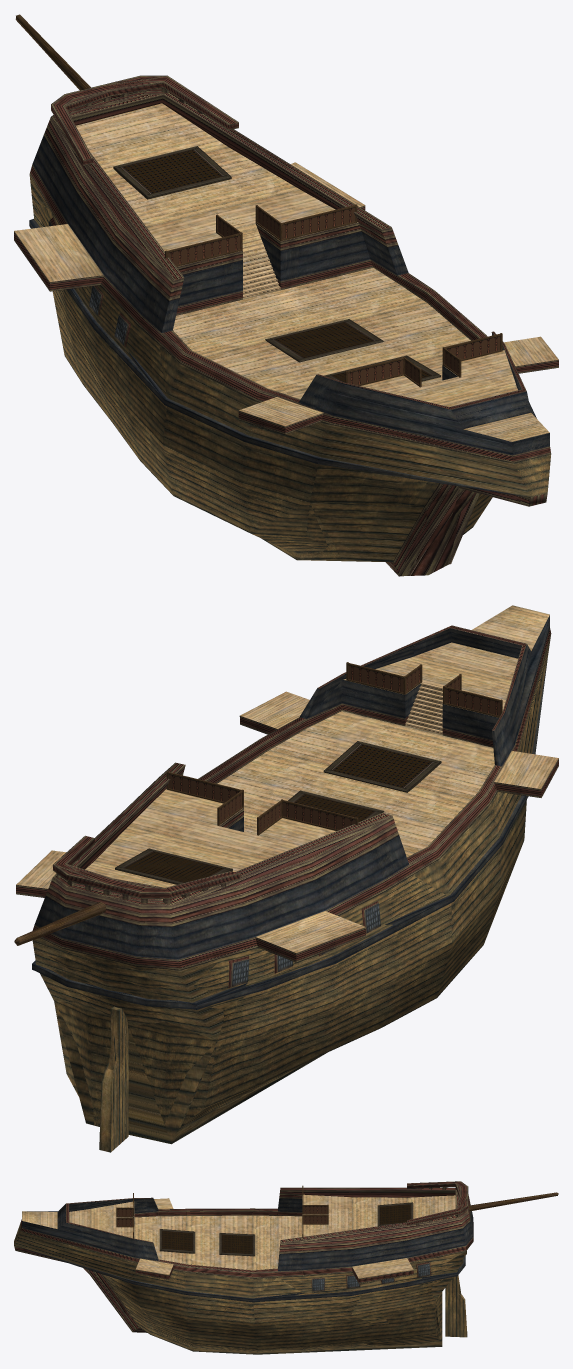
The model's file is pir_m_shp_gal_carrack.fbx.
3 renders of one model, top to bottom at view 1: azimuth 30°, elevation 25°; view 2: azimuth 150°, elevation 25°; view 3: azimuth 270°, elevation 25°, orthographic. The views are drawn at different scales.
Parts seen in each view (by area): view 1: deck1, hull_mid1.002, stripe.001, hull_bottom.001, stripe_lower.002, hull_upper_fore.002, hull_mid1, hull_bottom.002, hull_upper_aft, stripe1, hull_bottom, hull_upper_aft.002 (+26 smaller); view 2: deck1, hull_bottom, hull_mid1, hull_mid1.002, hull_upper_aft, stripe1, hull_upper_fore.002, hull_bottom.002, stripe_lower.002, stripe.001, grate_0, stripe_lower (+21 smaller); view 3: deck1, hull_mid1.002, hull_bottom, hull_bottom.001, hull_upper_aft, hull_mid1.001, hull_mid1, stripe1, stripe_lower.002, stripe.001, hull_upper_fore.002, hull_bottom.002 (+20 smaller).
Part boxes in pixels (left/top/right/bottom): deck1: left=76, top=103, right=549, bottom=441; hull_mid1.002: left=29, top=175, right=550, bottom=501; stripe.001: left=51, top=91, right=398, bottom=301; hull_bottom.001: left=163, top=444, right=422, bottom=551; stripe_lower.002: left=159, top=259, right=550, bottom=462; hull_upper_fore.002: left=298, top=332, right=549, bottom=455; hull_mid1: left=35, top=187, right=325, bottom=443; hull_bottom.002: left=261, top=494, right=492, bottom=562; hull_upper_aft: left=32, top=136, right=168, bottom=332; stripe1: left=43, top=88, right=378, bottom=300; hull_bottom: left=52, top=291, right=173, bottom=495; hull_upper_aft.002: left=162, top=231, right=408, bottom=332; deck1: left=85, top=605, right=549, bottom=899; hull_bottom: left=54, top=943, right=451, bottom=1140; hull_mid1: left=40, top=792, right=508, bottom=1040; hull_mid1.002: left=32, top=635, right=550, bottom=1040; hull_upper_aft: left=34, top=835, right=408, bottom=959; stripe1: left=45, top=766, right=398, bottom=926; hull_upper_fore.002: left=299, top=615, right=549, bottom=766; hull_bottom.002: left=54, top=1002, right=326, bottom=1144; stripe_lower.002: left=198, top=628, right=551, bottom=874; stripe.001: left=53, top=762, right=391, bottom=905; grate_0: left=323, top=741, right=441, bottom=792; stripe_lower: left=32, top=865, right=412, bottom=969; deck1: left=22, top=1194, right=455, bottom=1270; hull_mid1.002: left=14, top=1222, right=465, bottom=1323; hull_bottom: left=255, top=1292, right=442, bottom=1351; hull_bottom.001: left=115, top=1289, right=438, bottom=1351; hull_upper_aft: left=278, top=1204, right=473, bottom=1271; hull_mid1.001: left=14, top=1225, right=465, bottom=1323; hull_mid1: left=165, top=1250, right=466, bottom=1323; stripe1: left=279, top=1190, right=470, bottom=1254; stripe_lower.002: left=21, top=1208, right=302, bottom=1278; stripe.001: left=279, top=1187, right=460, bottom=1253; hull_upper_fore.002: left=23, top=1197, right=158, bottom=1260; hull_bottom.002: left=113, top=1288, right=442, bottom=1354.
Bounding box in the file's own units: 5774 × 4854 × 16609.
Materials: 2 (2 with a texture image).
